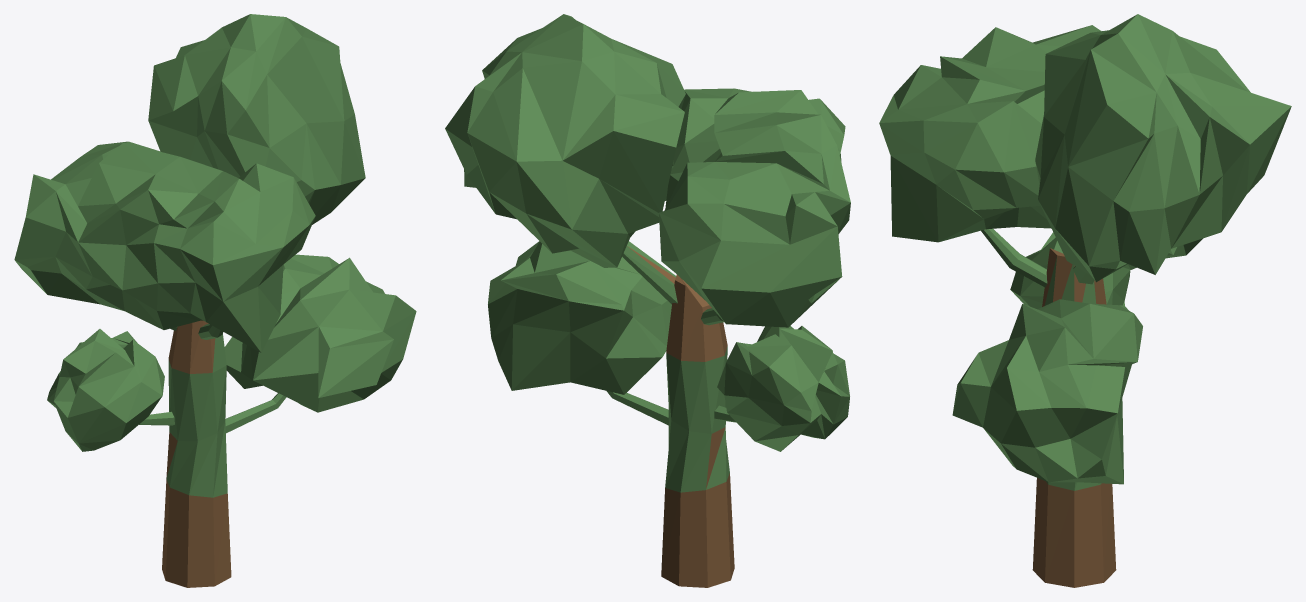
File: tree3d-077.glb
3 views of the same model, side by side, from view 1: azimuth 30°, elevation 25°; view 2: azimuth 150°, elevation 25°; view 3: azimuth 270°, elevation 25° (orthographic). The views are drawn at different scales.
Parts seen in each view (by area): view 1: tree3d-077; view 2: tree3d-077; view 3: tree3d-077.
Part boxes in pixels (x1,y1,x2,y2): tree3d-077: [14, 14, 416, 587]; tree3d-077: [445, 14, 850, 587]; tree3d-077: [879, 14, 1291, 587].
Bounding box in the file's own units: 0.7139 × 1 × 0.6211.
